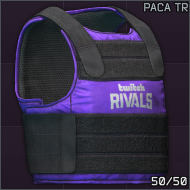PACA Soft Armor Rivals Edition: (0, 0, 190, 190)
